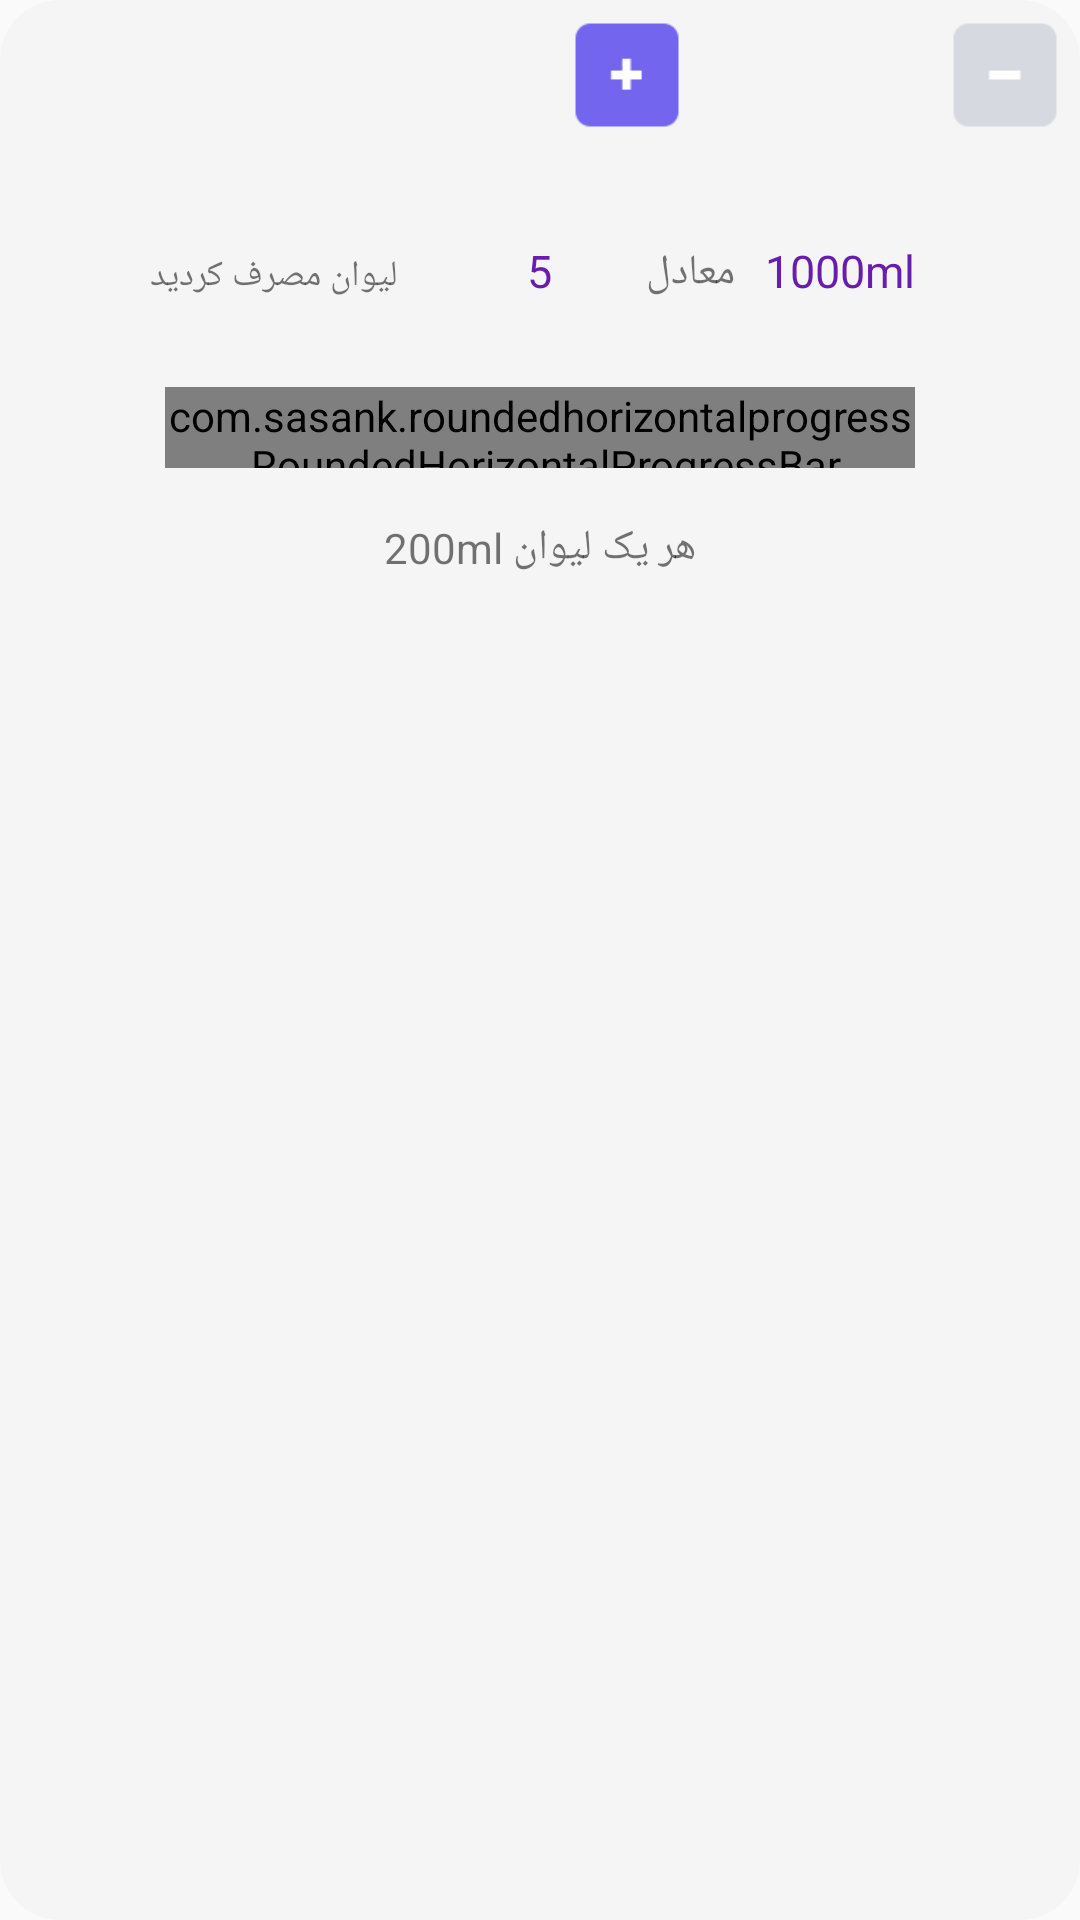

Screen size 1080x1920. Icon name, then its center in pixels as (x,y):
minuser: (1005,75)
pluser: (627,75)
